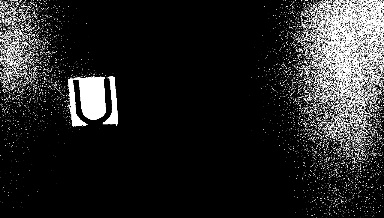U: (70, 78, 116, 124)
